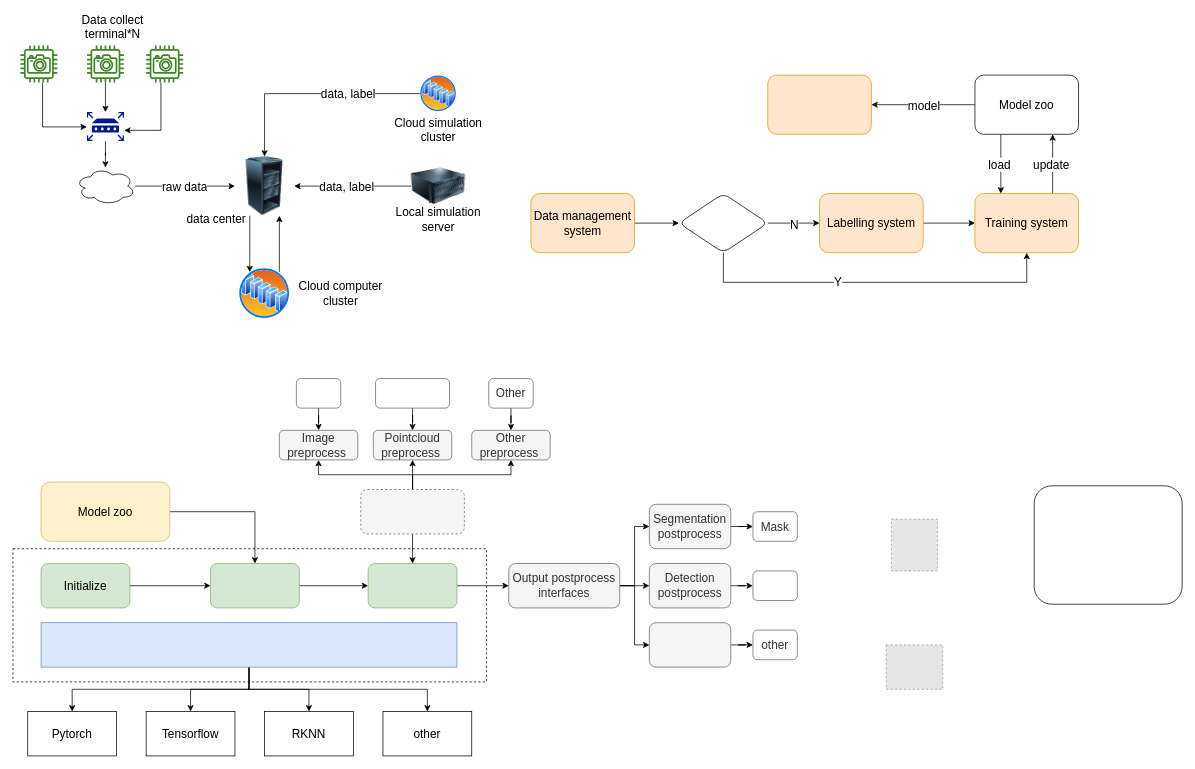
Image size: 1195x769. Some labels were removed from this diagram. Grey dashed boxes stand in for pictures. The centre of each missing label's shape, as x and y in pixels:
"AI inferrence platform" goes at pixel 819 104.
"AI platform API interfaces" goes at pixel 248 644.
"Bbox" goes at pixel 774 585.
"Image" goes at pixel 318 393.
"Inference" goes at pixel 412 585.
"Input preprocess interfaces" goes at pixel 412 511.
"labelled?" goes at pixel 723 223.
"Load model" goes at pixel 254 585.
"other postprocess" goes at pixel 690 644.
"Pointcloud" goes at pixel 412 393.
